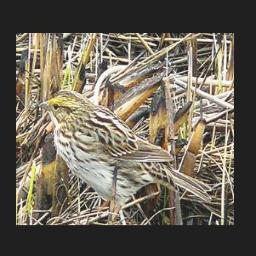Sparrow: (34, 89, 214, 221)
